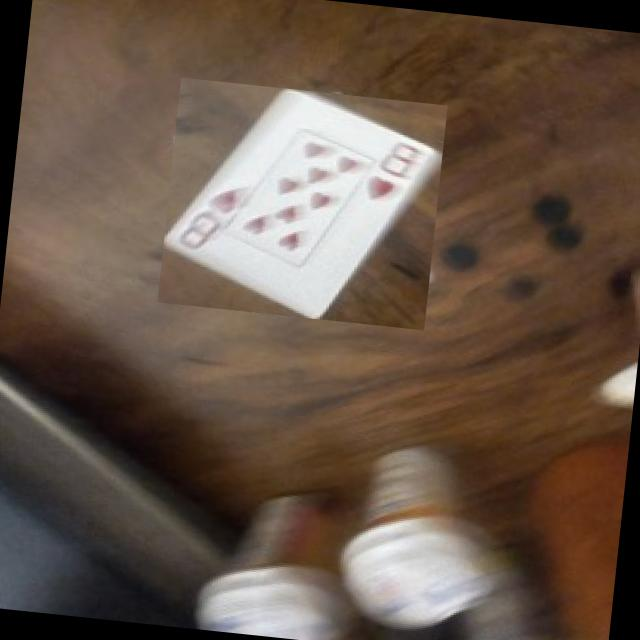8 of hearts: (164, 88, 442, 317)
